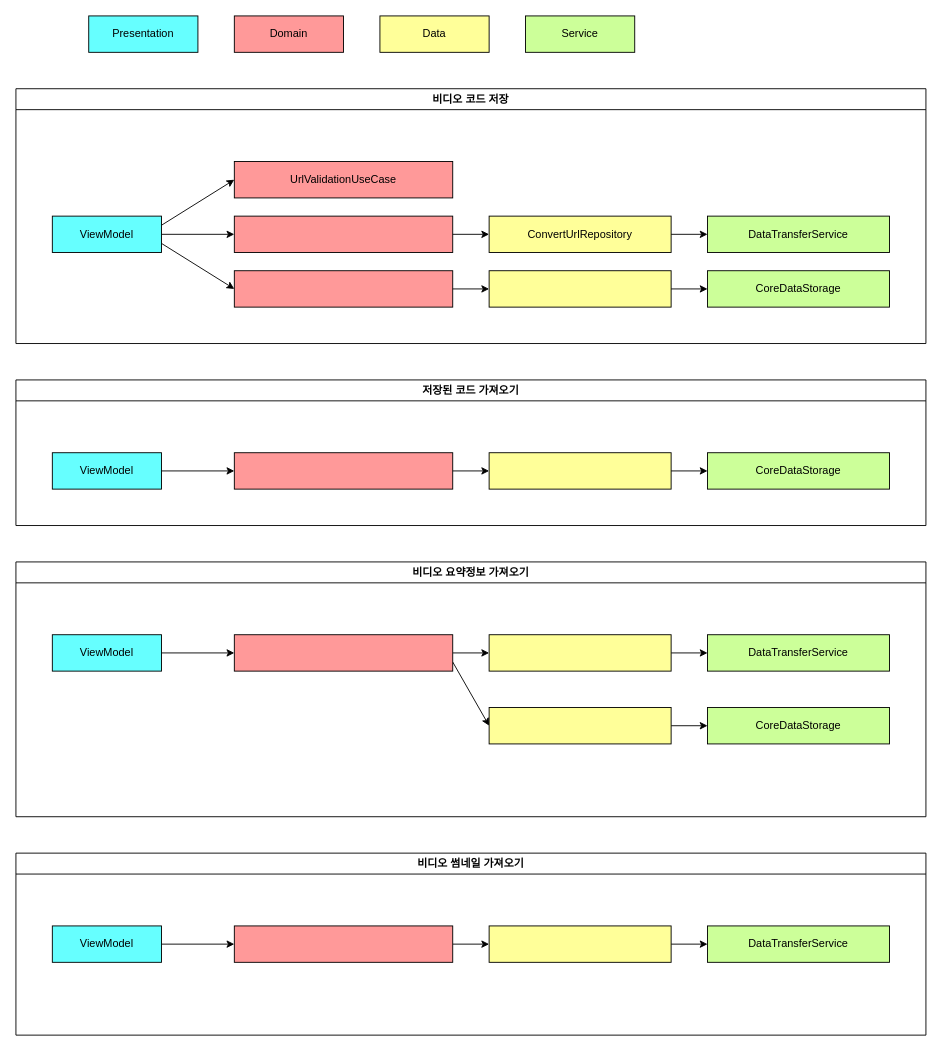
Image size: 942x1051. Some labels were removed from this diagram. The shapes that lost their labels are listed below. From the top down, each one's centre as x and y in pixels, then its label:
the point at 343,234: ConvertUrlToVideoCodeUseCase
the point at 343,288: SaveVideoCodeUseCase
the point at 579,288: SaveVideoCodeRepository
the point at 343,470: FetchVideoCodesUseCase
the point at 579,470: FetchVideoCodesRepository
the point at 343,652: VideoDetailUseCase
the point at 579,652: SummaryProcessRepository
the point at 579,725: VideoDetailLocalRepository
the point at 343,943: VideoThumbNailUseCase
the point at 579,943: VideoThumbNailRepository (Youtube)
